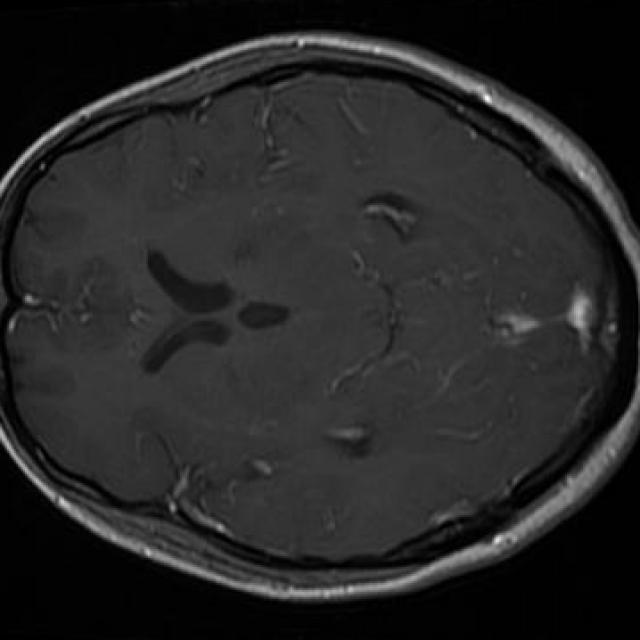glioma: (360, 193, 423, 242)
